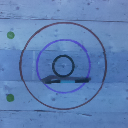Axe Tip: (41, 78, 53, 80)
